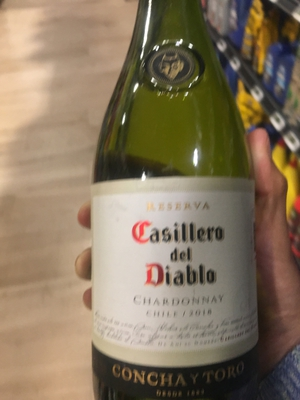casillero del diablo chardonnay: (90, 3, 270, 399)
